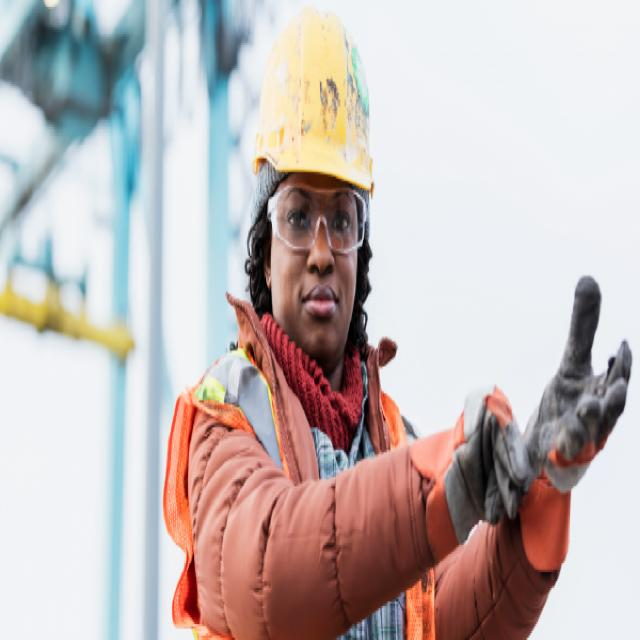gloves: (534, 264, 634, 495), (423, 388, 530, 540)
helmet: (254, 3, 378, 200)
